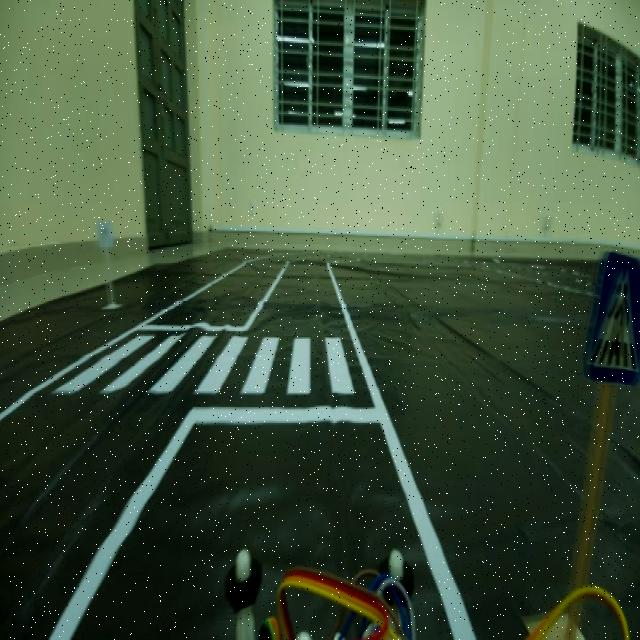crosswalk: (585, 239, 638, 399)
